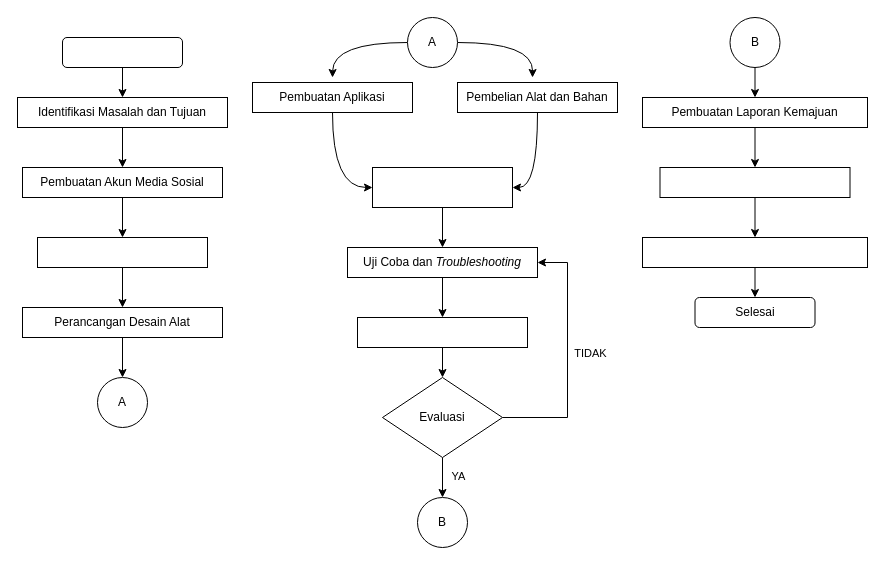
Image size: 885x565. Some labels were removed from this diagram. Here are the shapes that lost their labels. From the top down, the centre of each, then its label:
the point at 122,52: Mulai
the point at 442,187: Pembuatan Alat dan Bahan
the point at 754,182: Pembuatan Artikel Ilmiah
the point at 122,252: Studi Pendahuluan
the point at 755,252: Pembuatan Laporan Akhir
the point at 442,332: Perakitan Alat
